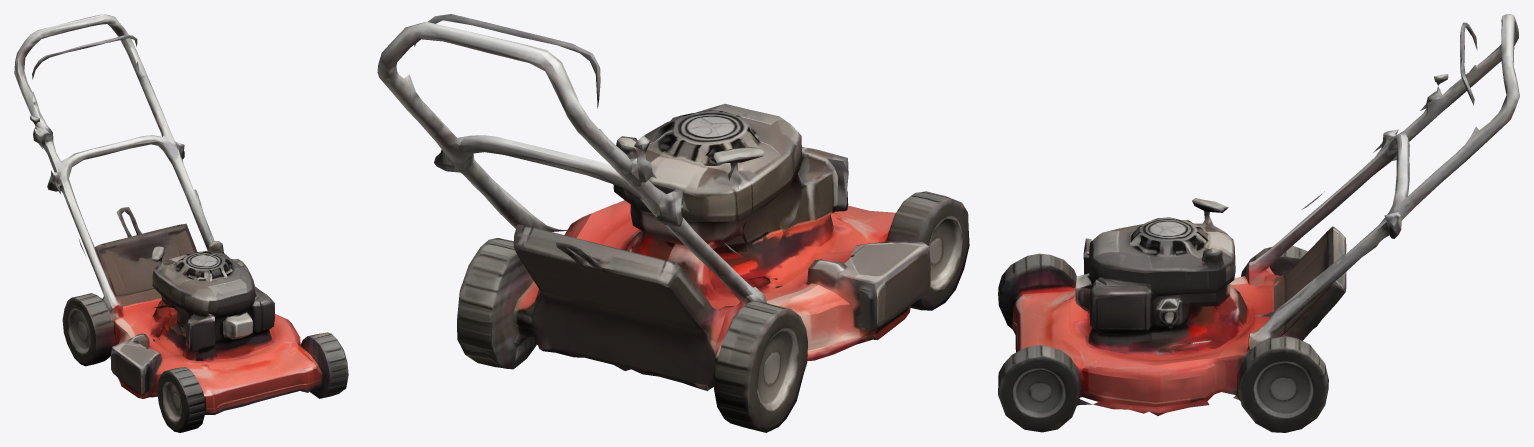
Rendered from lawnmower.glb.
3 renders of one model, left to right at view 1: azimuth 30°, elevation 25°; view 2: azimuth 150°, elevation 25°; view 3: azimuth 270°, elevation 25°, orthographic. The views are drawn at different scales.
Parts seen in each view (by area): view 1: LawnMower; view 2: LawnMower; view 3: LawnMower.
Boxes of the visible parts, x1,y1,x2,y2 form: LawnMower: (14,14,348,432); LawnMower: (377,14,969,432); LawnMower: (998,14,1519,432).
Bounding box in the file's own units: 0.7286 × 1.02 × 1.4.
Materials: 1 (1 with a texture image).
